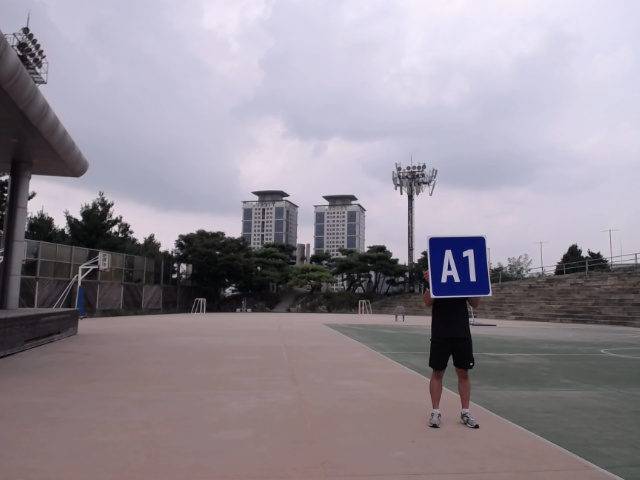delivery_a1: (428, 235, 491, 297)
